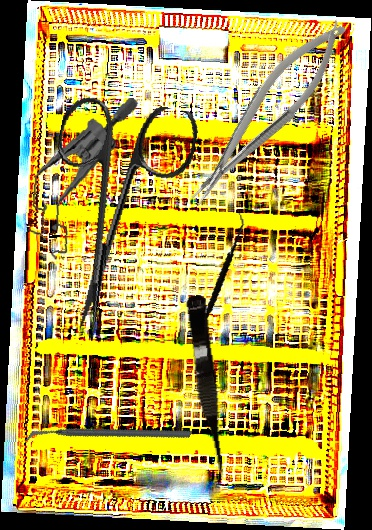Chopper: (24, 369, 193, 503)
Iris Scissors: (23, 88, 202, 345)
Micro Scissor: (181, 294, 231, 482)
Needle Holder: (171, 8, 363, 215)
Spatula Surgical: (172, 212, 268, 347)
Speculum: (21, 88, 142, 268)
